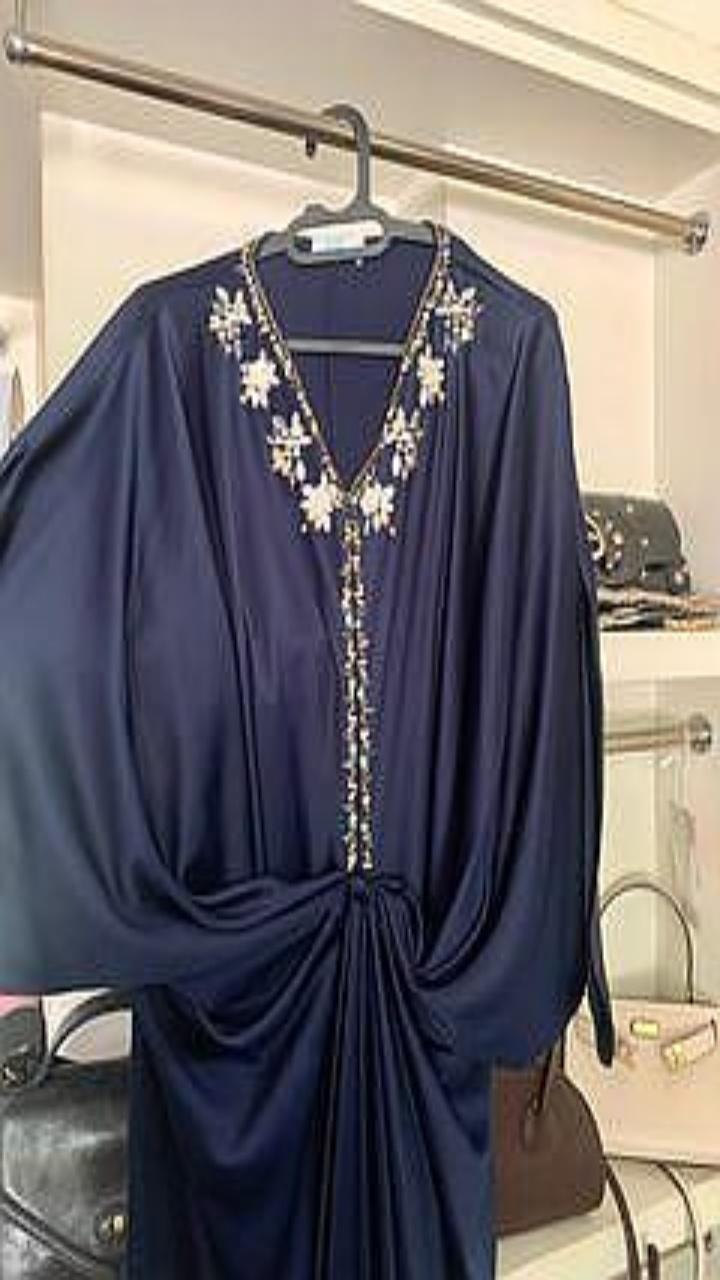Dresses: (0, 223, 612, 1279)
